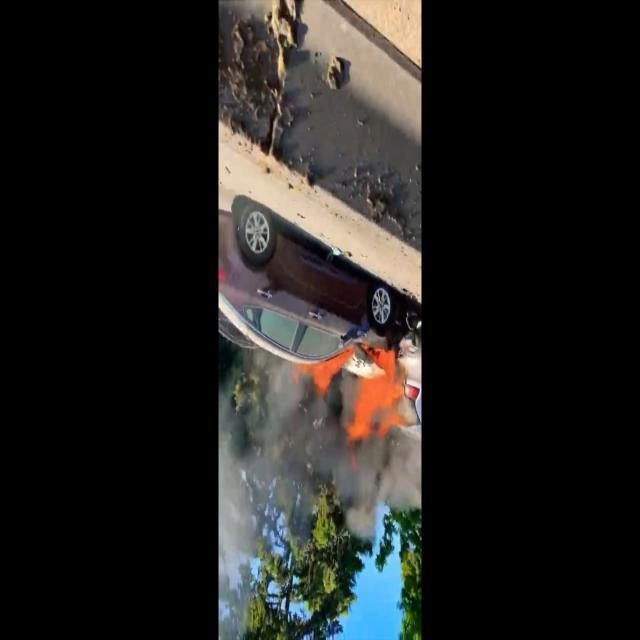fire: (290, 346, 408, 460)
